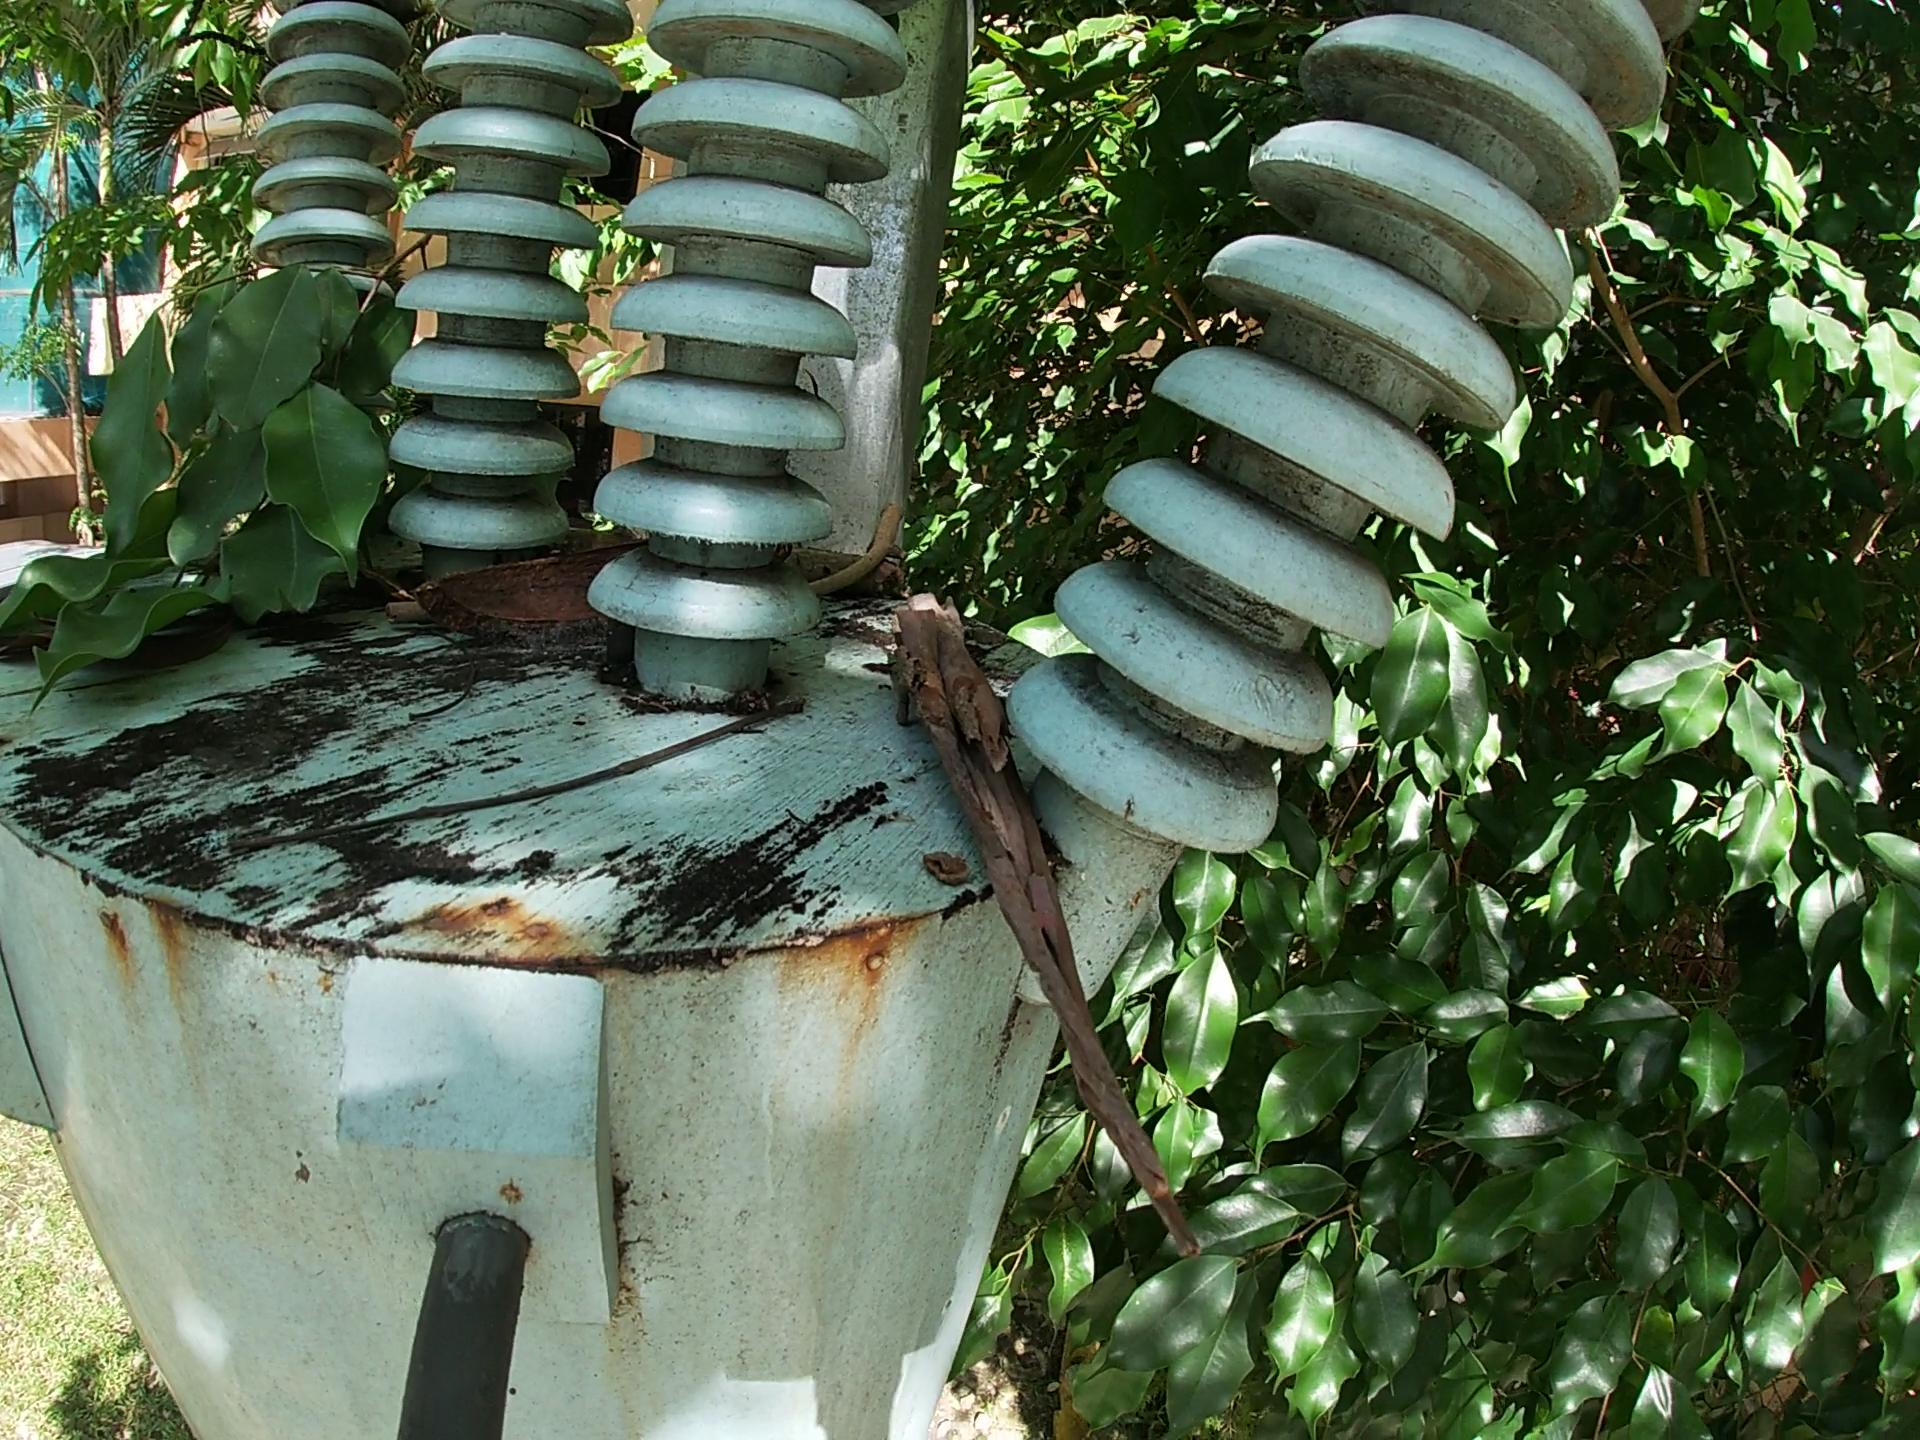branch with leaves: (2, 213, 467, 764)
mahogany fruit: (426, 537, 647, 653)
tree branch: (887, 587, 1200, 1255), (206, 687, 819, 882), (809, 493, 909, 614), (404, 622, 478, 749), (777, 548, 921, 588), (386, 596, 429, 643)
